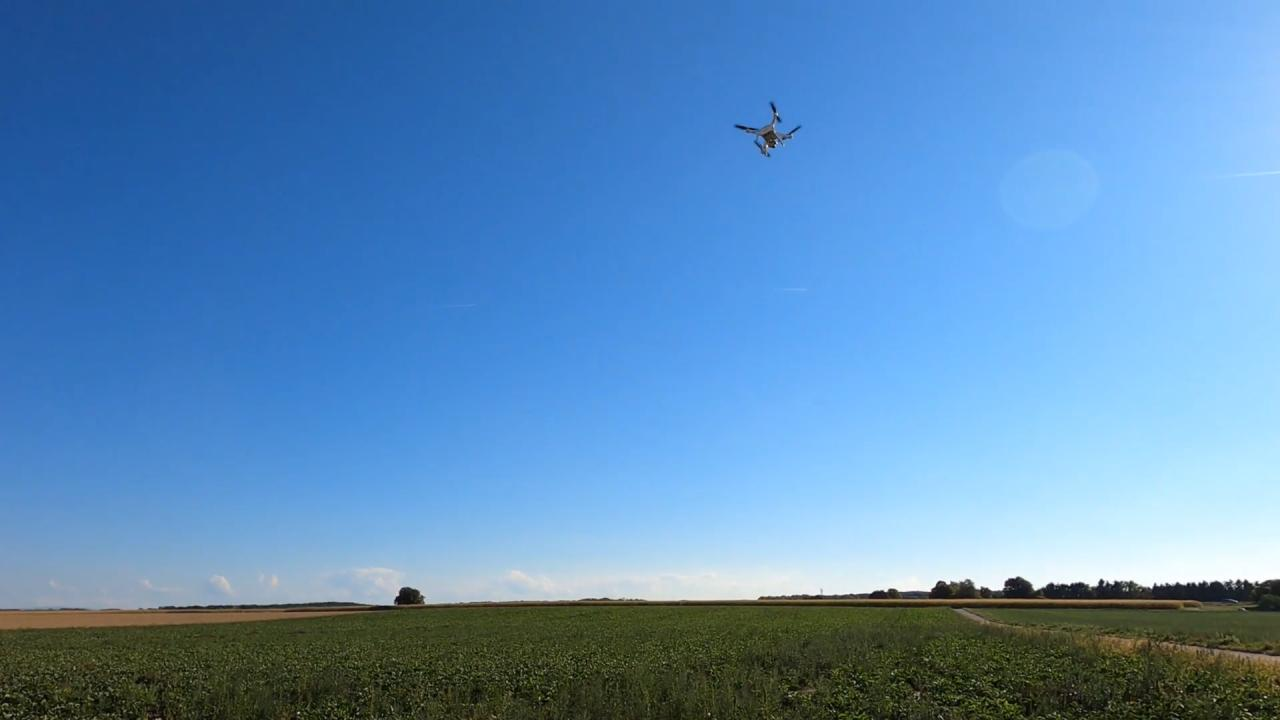Drone: (729, 97, 810, 163)
